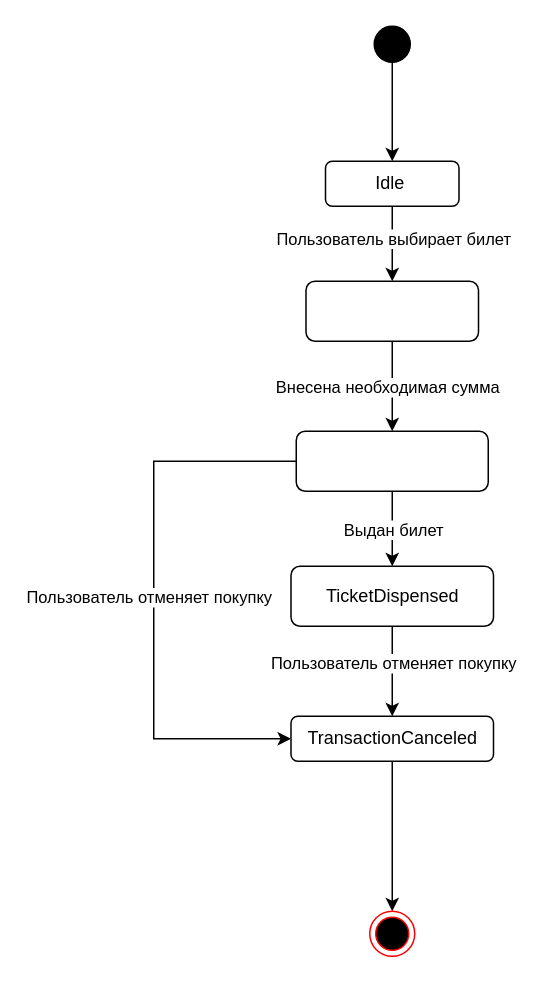
Image size: 542x983. Some labels were removed from this diagram. Here are the shapes that lost their labels. From the top down, the centre of each, then its label:
At point (391, 310): "WaitingForMoney".
At point (391, 460): "MoneyReceived".
